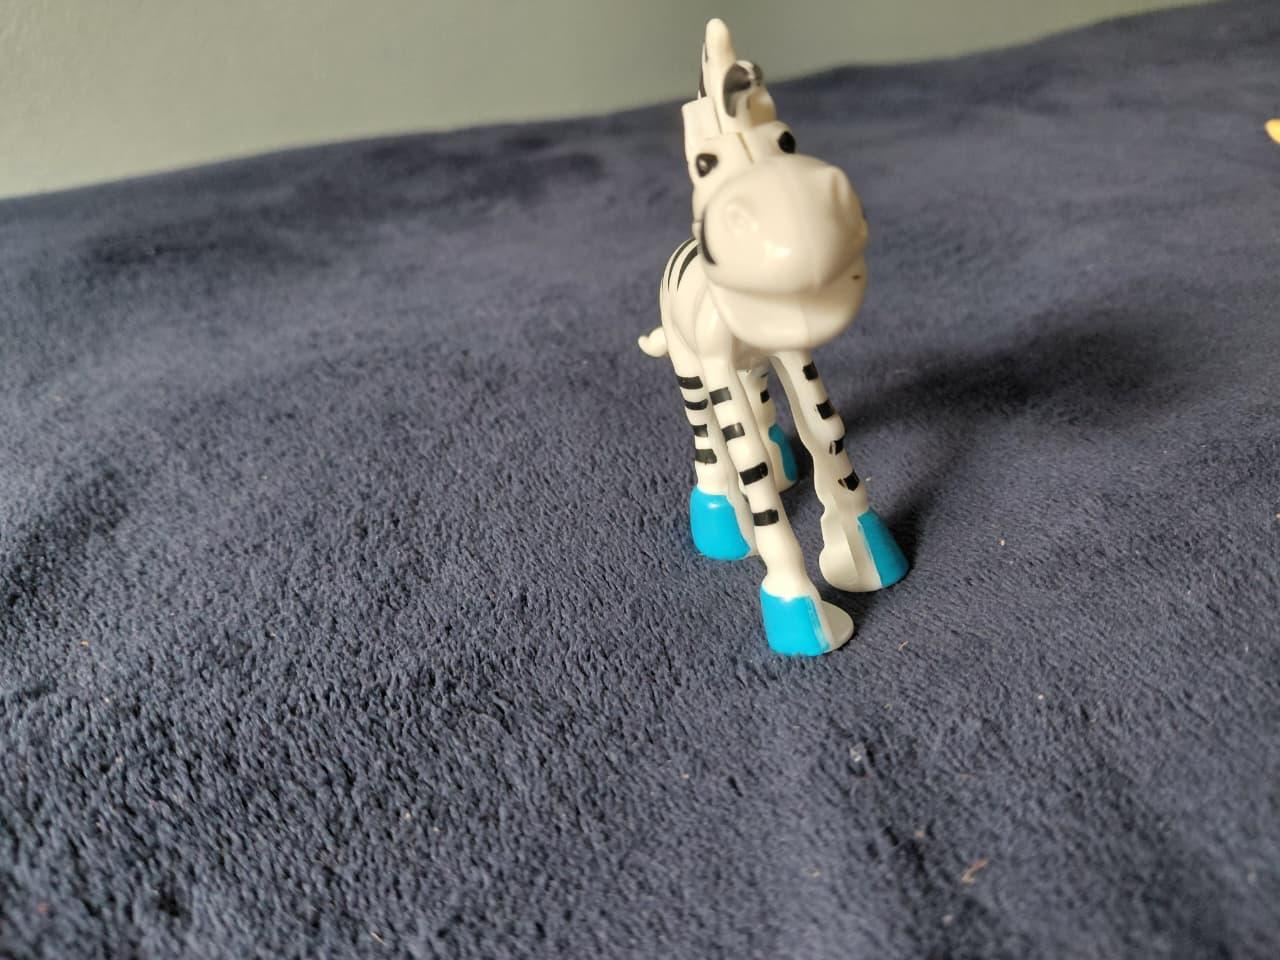zebra: (632, 12, 929, 656)
